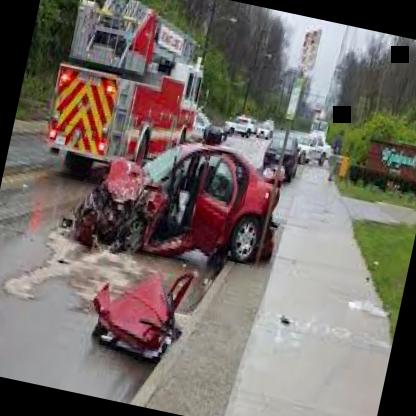accident: (50, 118, 326, 400)
